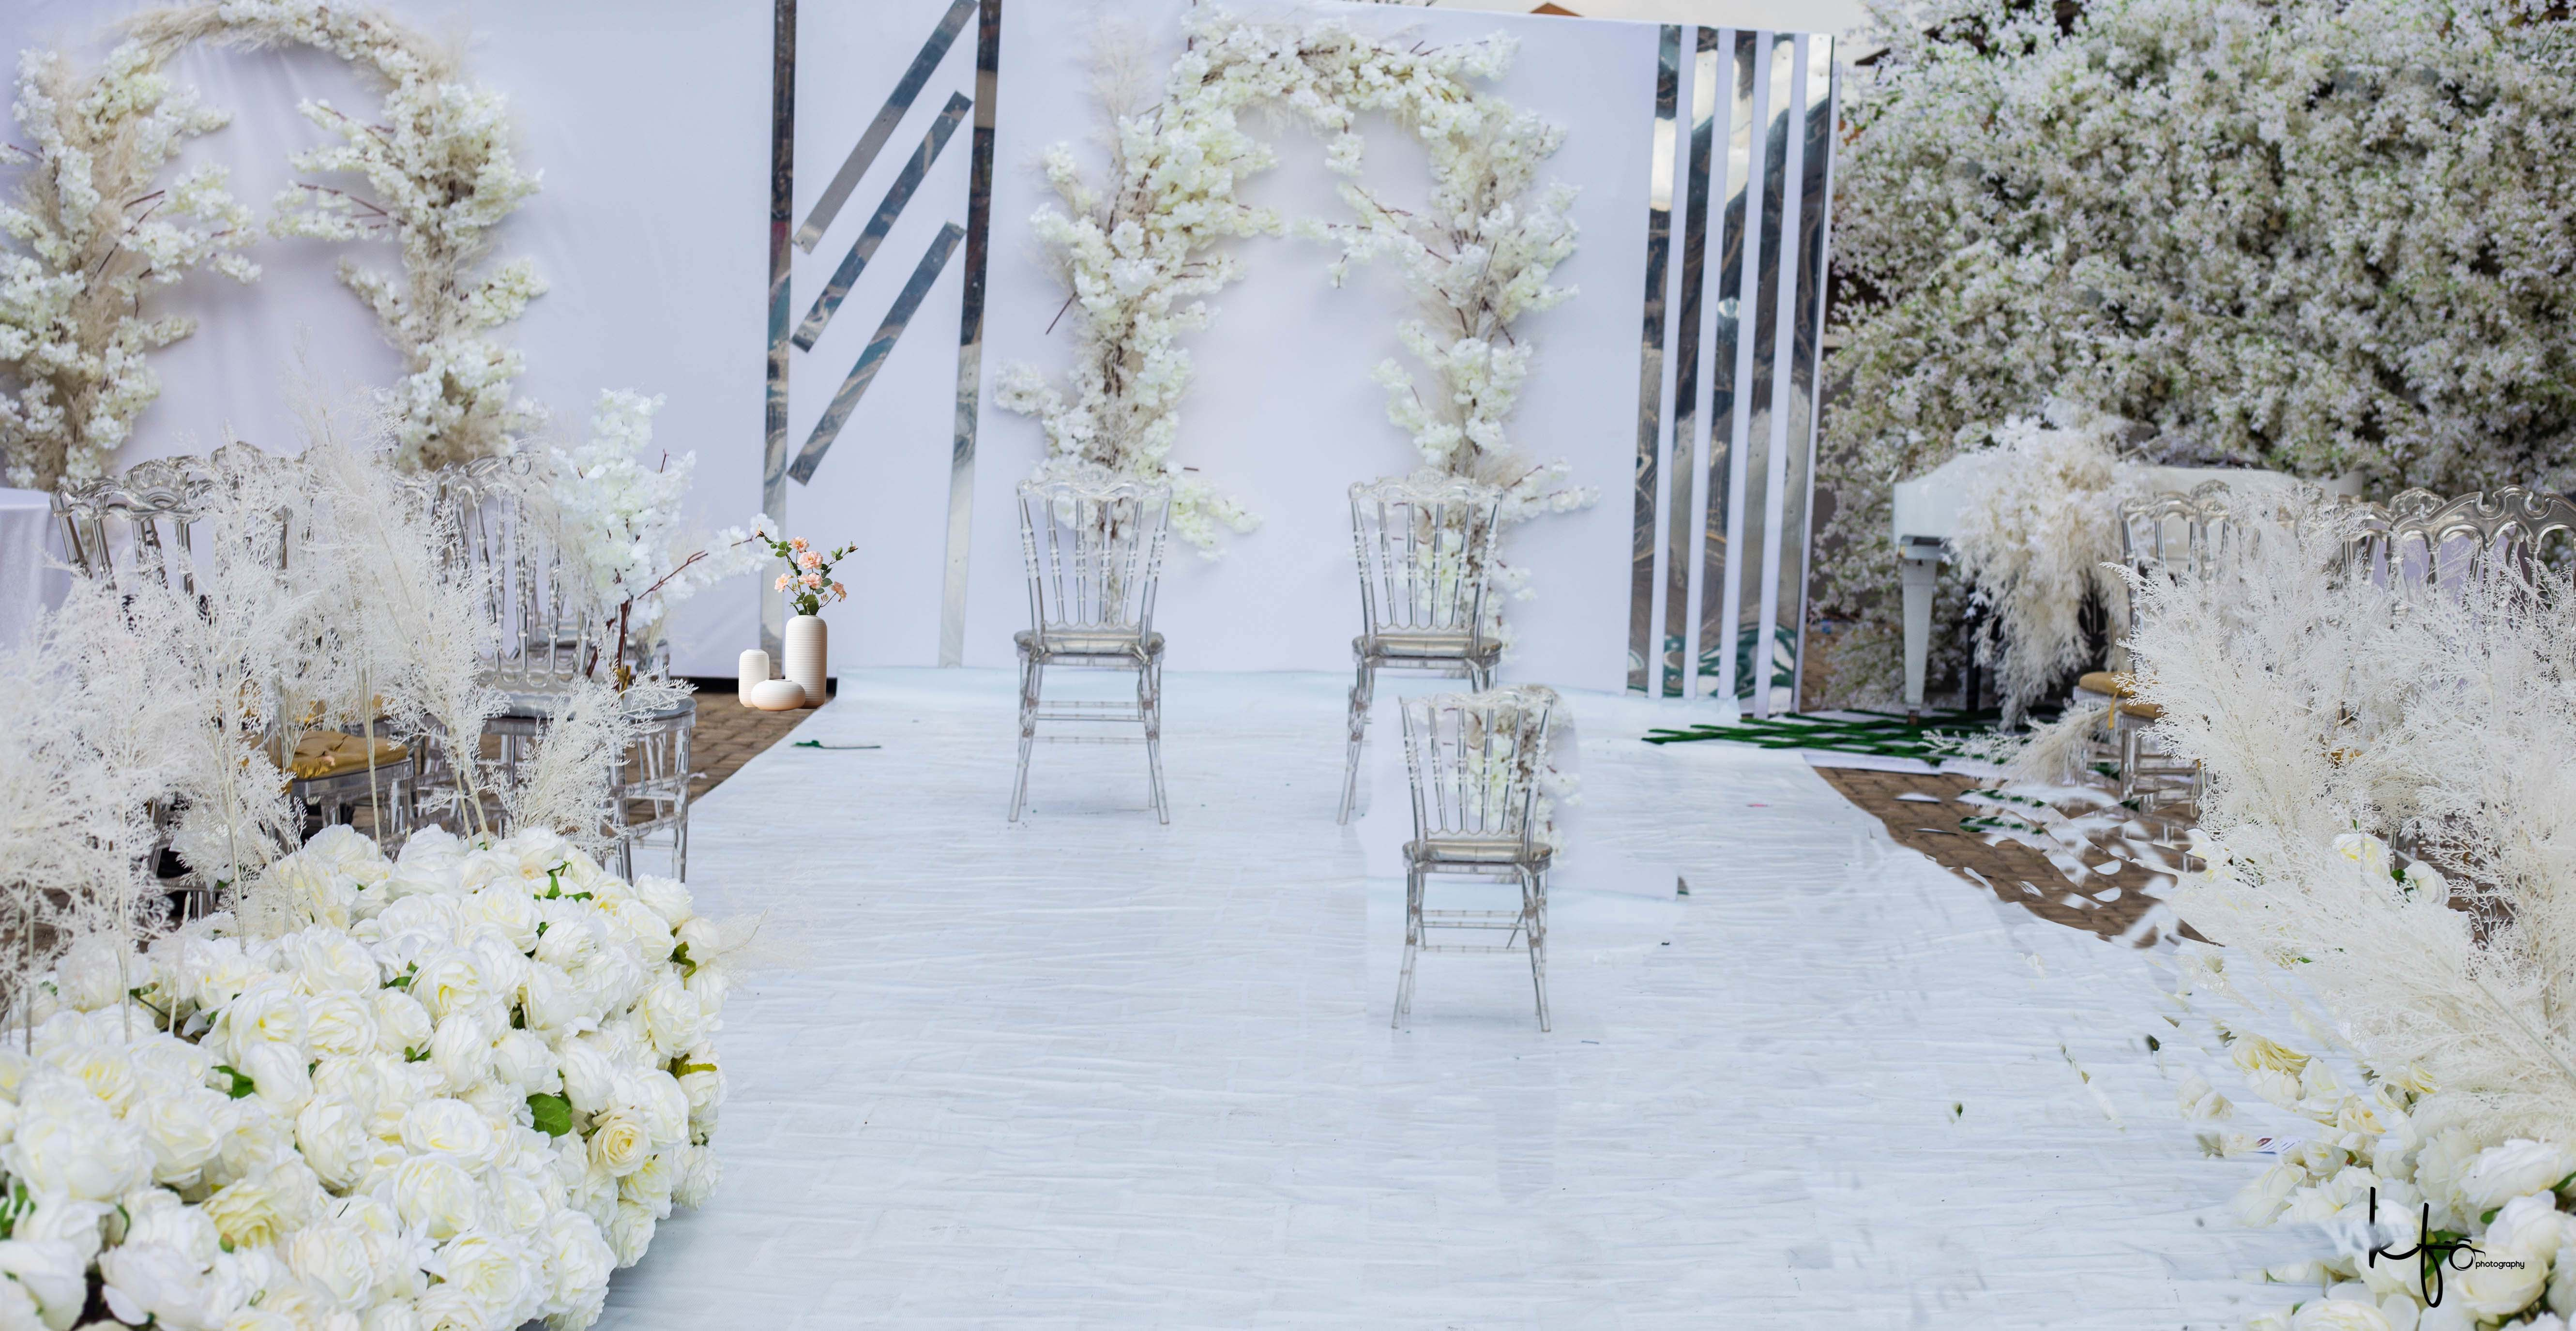copymove: (1390, 682, 1560, 1042)
removal: (1865, 156, 2304, 469)
spliced: (736, 550, 845, 705)
